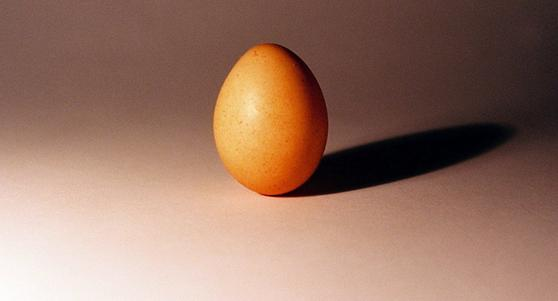egg: (211, 37, 326, 196)
